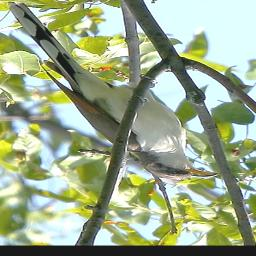Cuckoo: (6, 1, 219, 182)
